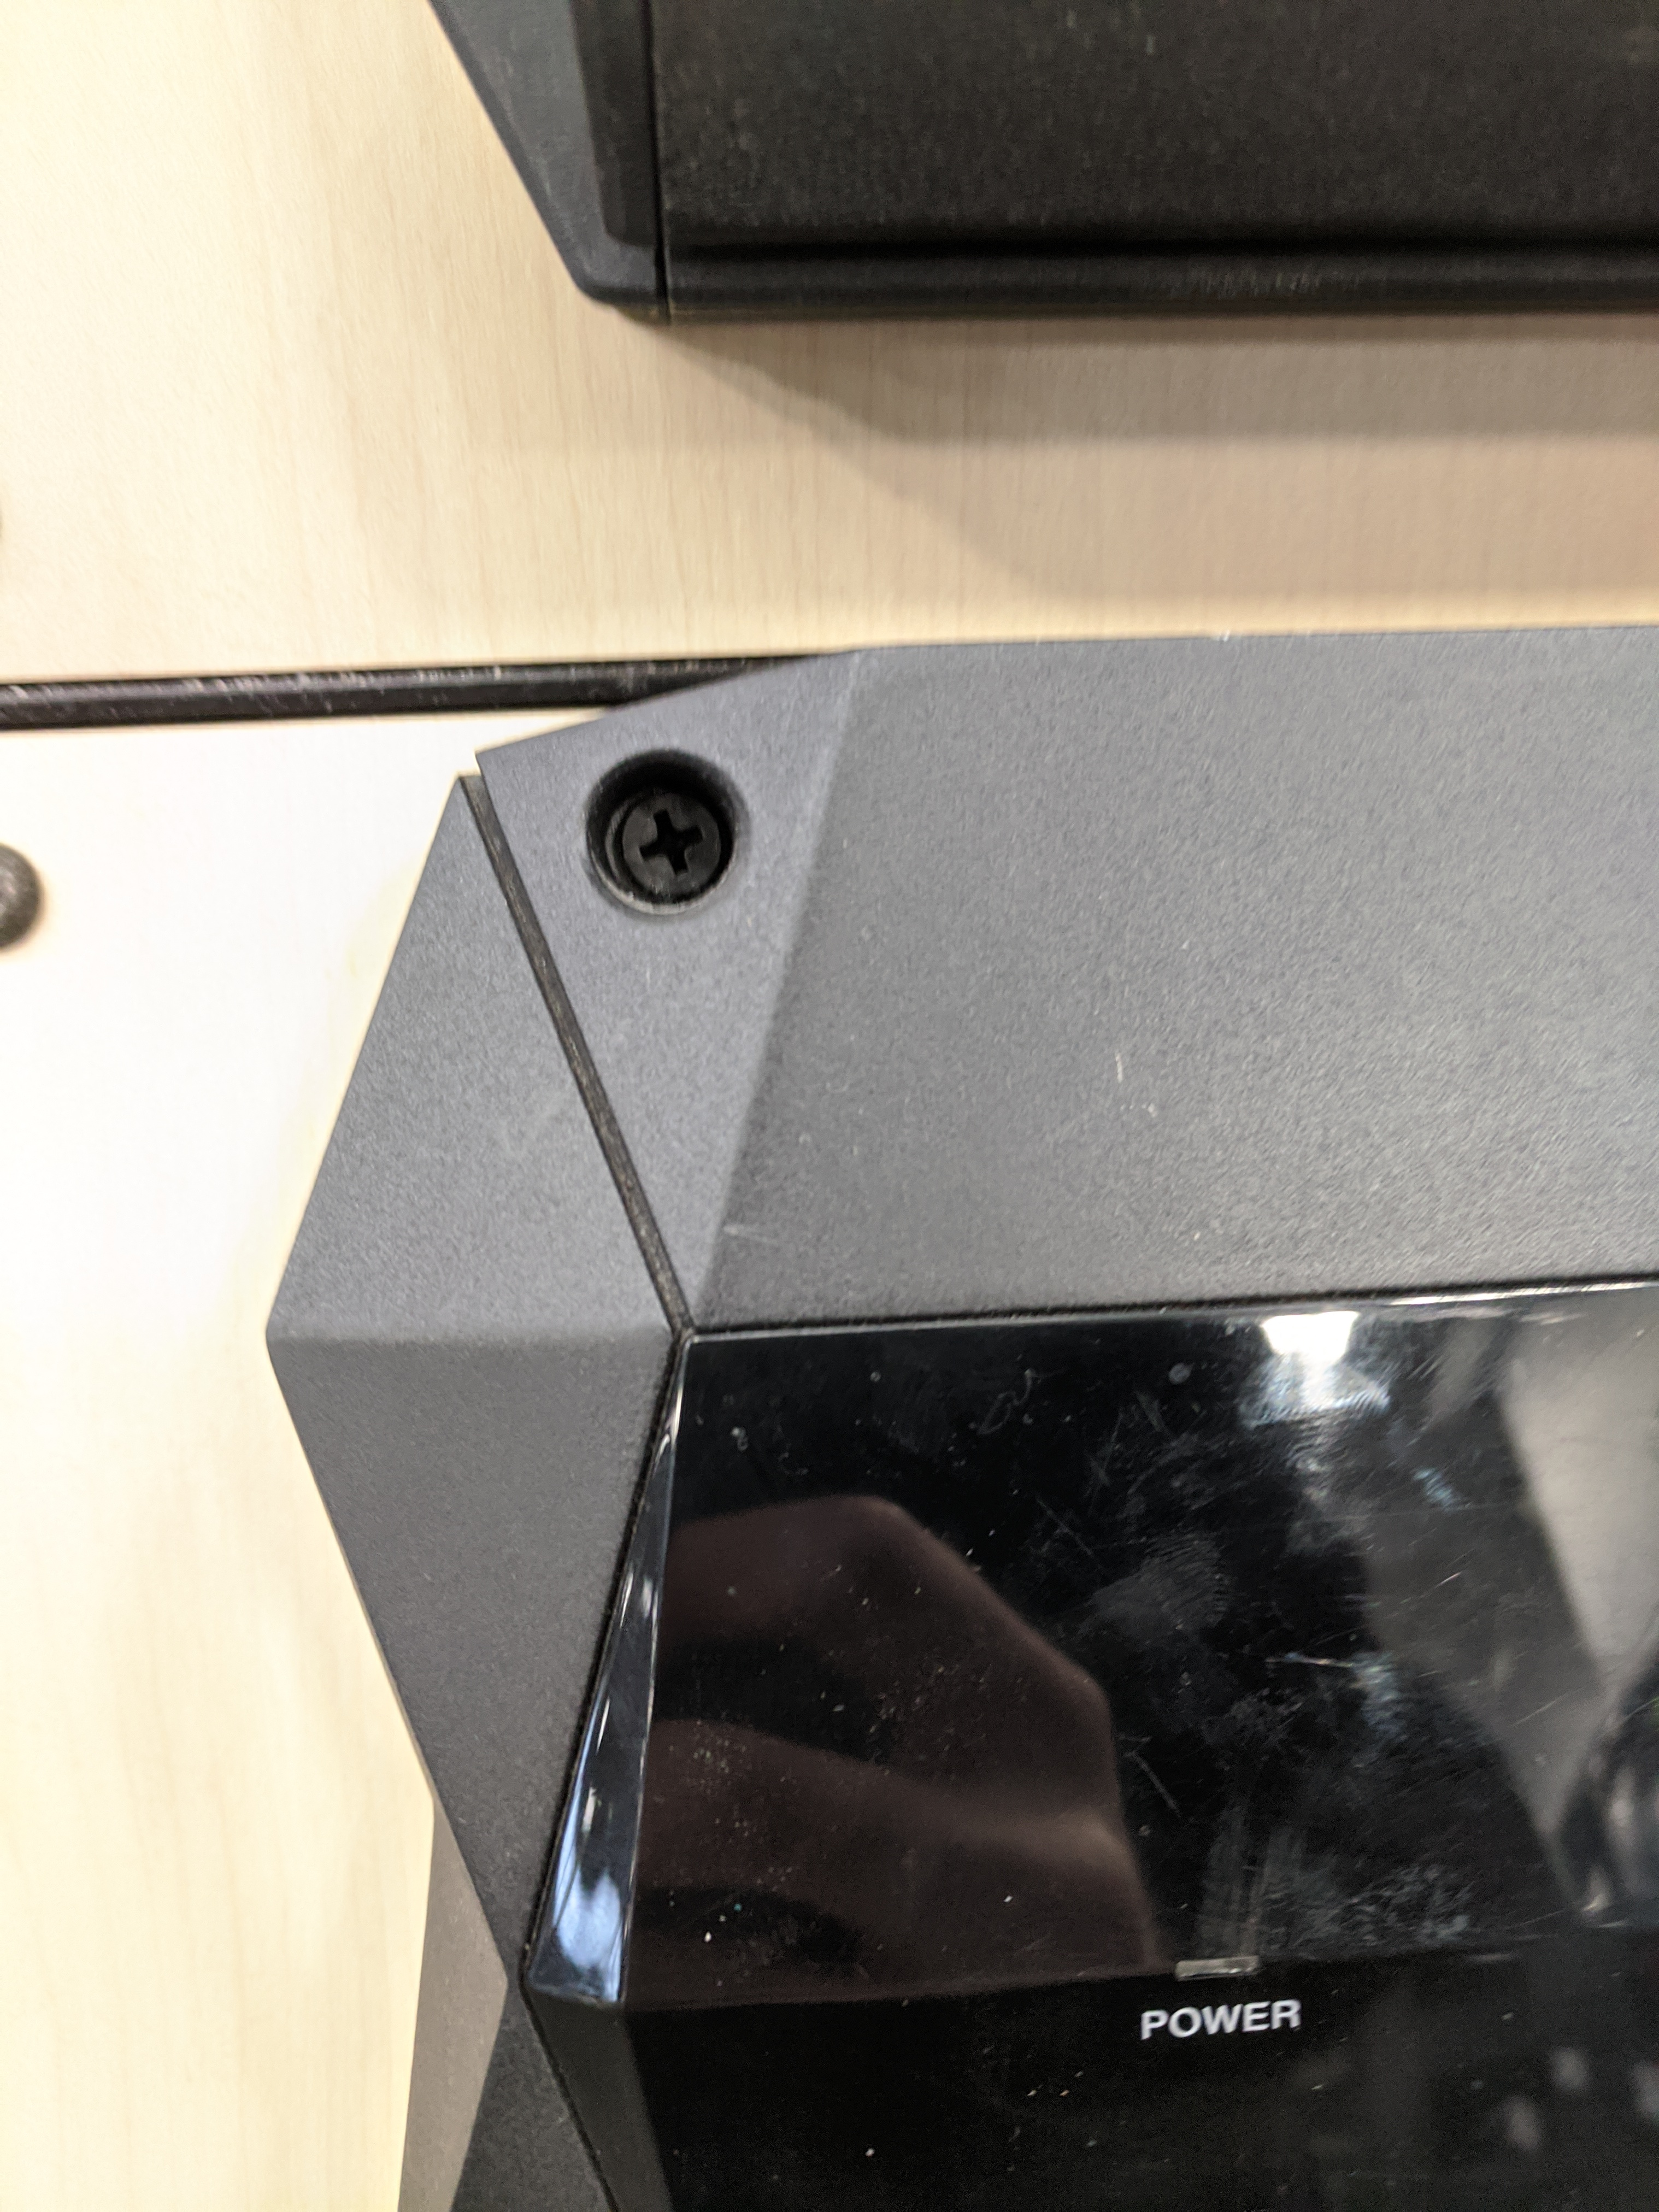cross_recessed_screw: (575, 754, 751, 899)
